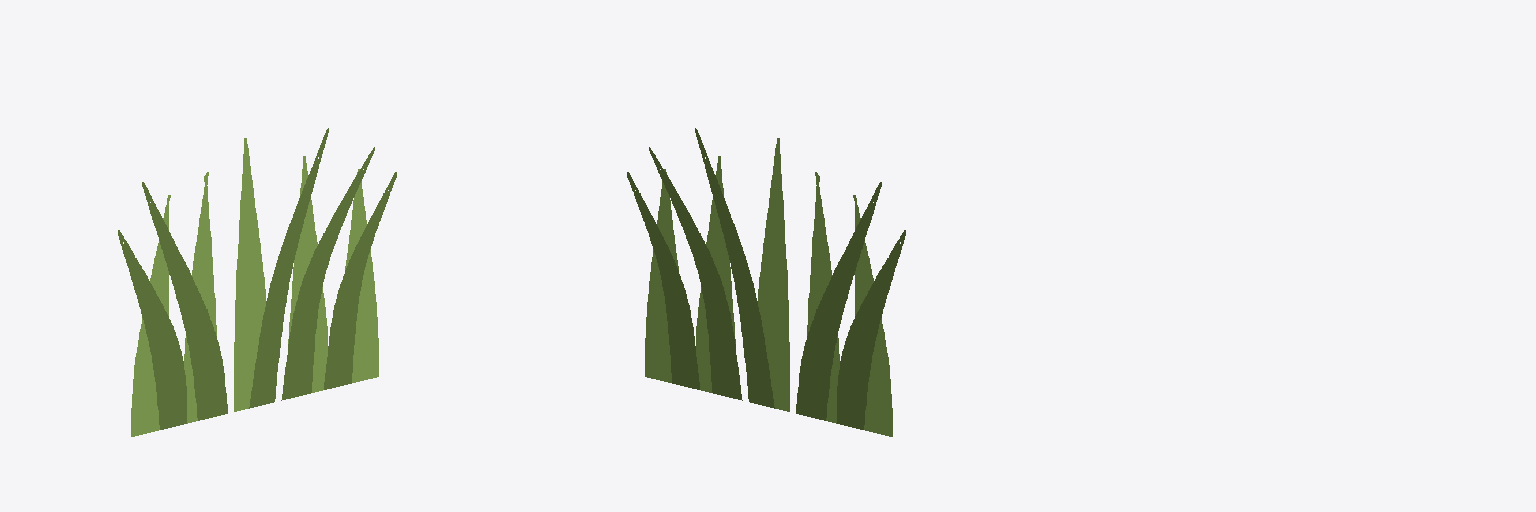
3 renders of one model, left to right at view 1: azimuth 30°, elevation 25°; view 2: azimuth 150°, elevation 25°; view 3: azimuth 270°, elevation 25°, orthographic.
Parts seen in each view (by area): view 1: 平面; view 2: 平面; view 3: none.
Part boxes in pixels (left/top/right/bottom): 平面: left=118, top=128, right=396, bottom=436; 平面: left=627, top=128, right=905, bottom=436.
Size of the model in its own units: 2 by 2 by 0.
Materials: 1 (1 with a texture image).